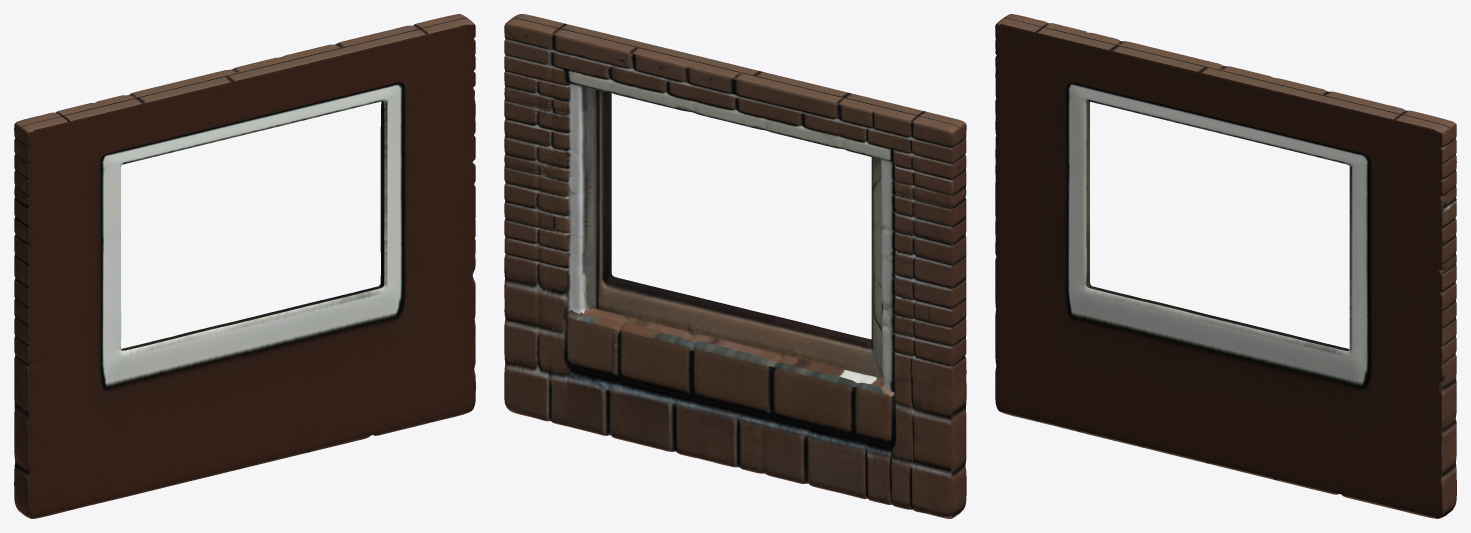
Rendered from Wall-Brick-3.glb.
3 renders of one model, left to right at view 1: azimuth 30°, elevation 25°; view 2: azimuth 150°, elevation 25°; view 3: azimuth 330°, elevation 25°, orthographic.
Visible parts, largest first — view 1: tmp3y9nvgch.ply; view 2: tmp3y9nvgch.ply; view 3: tmp3y9nvgch.ply.
Part boxes in pixels (x1,y1,x2,y2): tmp3y9nvgch.ply: [14, 14, 475, 518]; tmp3y9nvgch.ply: [504, 14, 966, 518]; tmp3y9nvgch.ply: [995, 14, 1456, 518].
Bounding box in the file's own units: 3 × 2.5 × 0.2.
Materials: 1 (1 with a texture image).
